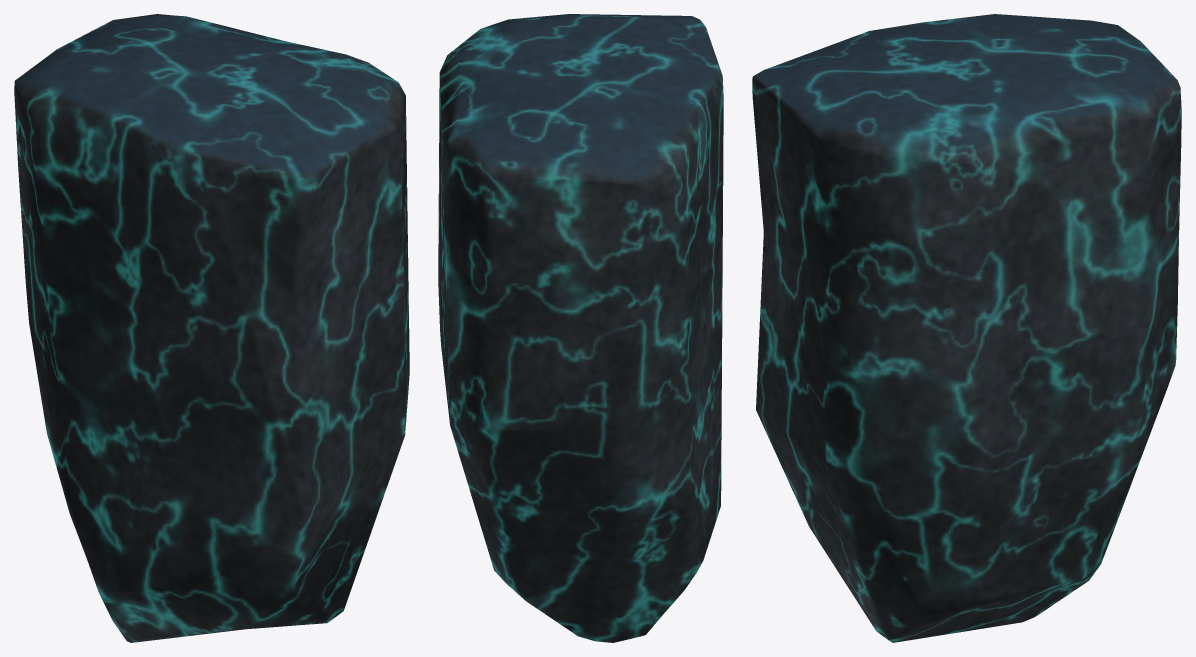
File: caos_stl_cliffrock_01d_soma_v36.glb
3 views of the same model, side by side, from view 1: azimuth 30°, elevation 25°; view 2: azimuth 150°, elevation 25°; view 3: azimuth 270°, elevation 25° (orthographic). The views are drawn at different scales.
Parts seen in each view (by area): view 1: caos_stl_cliffrock_01d; view 2: caos_stl_cliffrock_01d; view 3: caos_stl_cliffrock_01d.
Part boxes in pixels (x1=…): caos_stl_cliffrock_01d: x1=14, y1=14, x2=409, y2=642; caos_stl_cliffrock_01d: x1=438, y1=14, x2=723, y2=642; caos_stl_cliffrock_01d: x1=752, y1=14, x2=1181, y2=642.
Bounding box in the file's own units: 5.71 × 10.51 × 7.11.
1 material, 1 textured.
